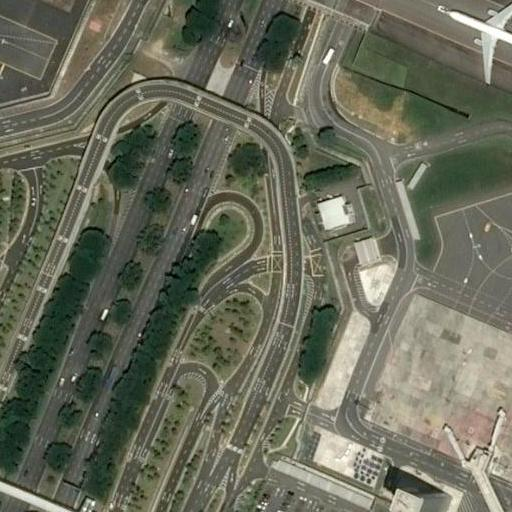Aircraft: (439, 0, 512, 88), (437, 0, 512, 84)
